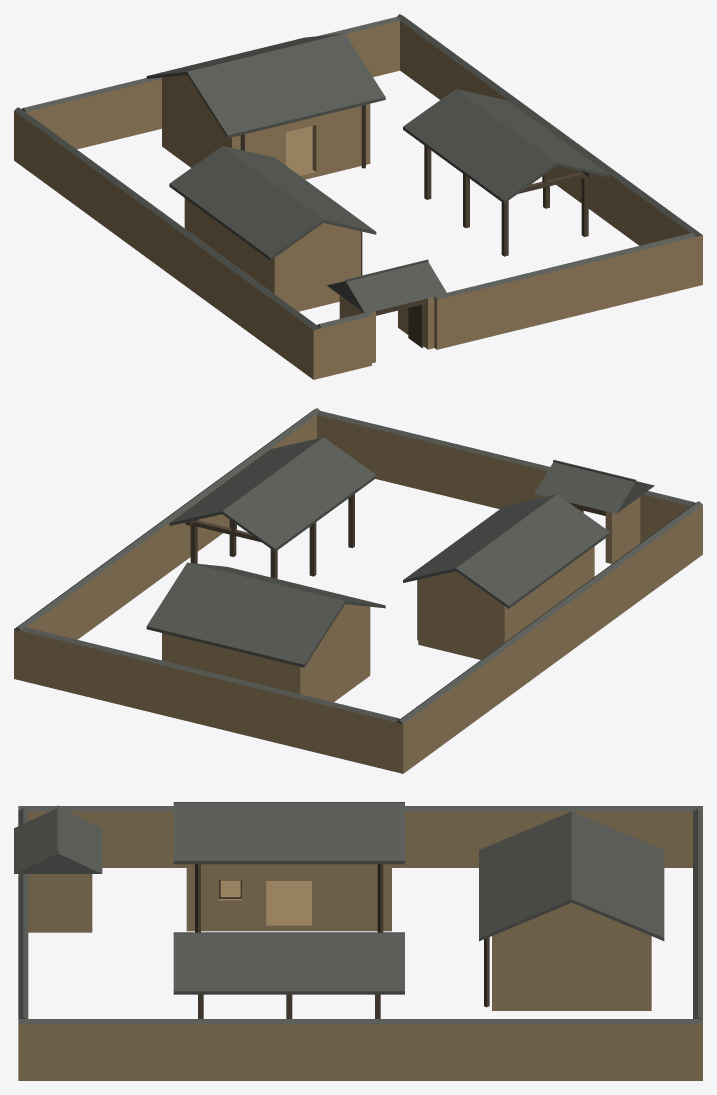
File: compact_work-LOD2.glb
3 views of the same model, one above another, from view 1: azimuth 30°, elevation 25°; view 2: azimuth 150°, elevation 25°; view 3: azimuth 270°, elevation 25° (orthographic). The views are drawn at different scales.
Visible parts, largest first — view 1: compact_work_earth, compact_work_tile, compact_work_timber; view 2: compact_work_earth, compact_work_tile, compact_work_timber; view 3: compact_work_earth, compact_work_tile, compact_work_timber.
Part boxes in pixels (x1,y1,x2,y2): compact_work_earth: [14, 21, 702, 379]; compact_work_tile: [14, 14, 702, 329]; compact_work_timber: [240, 105, 593, 347]; compact_work_earth: [14, 415, 702, 773]; compact_work_tile: [14, 408, 702, 723]; compact_work_timber: [185, 494, 605, 640]; compact_work_earth: [18, 811, 702, 1080]; compact_work_tile: [14, 802, 702, 1023]; compact_work_timber: [195, 864, 489, 1018].
Size of the model in its own units: 18 by 4.53 by 24.15.
